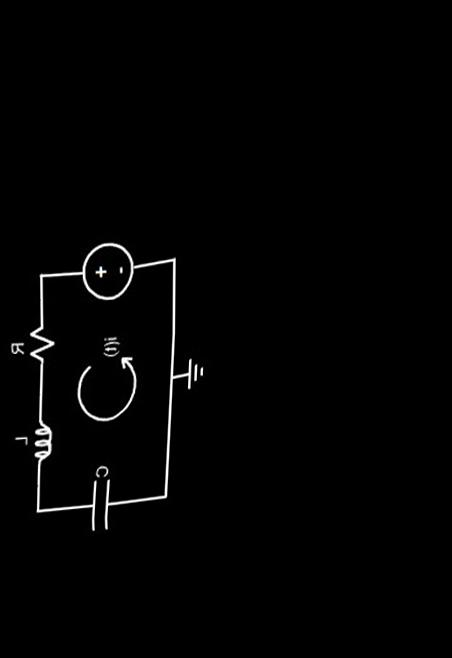Battery: (67, 228, 148, 311)
